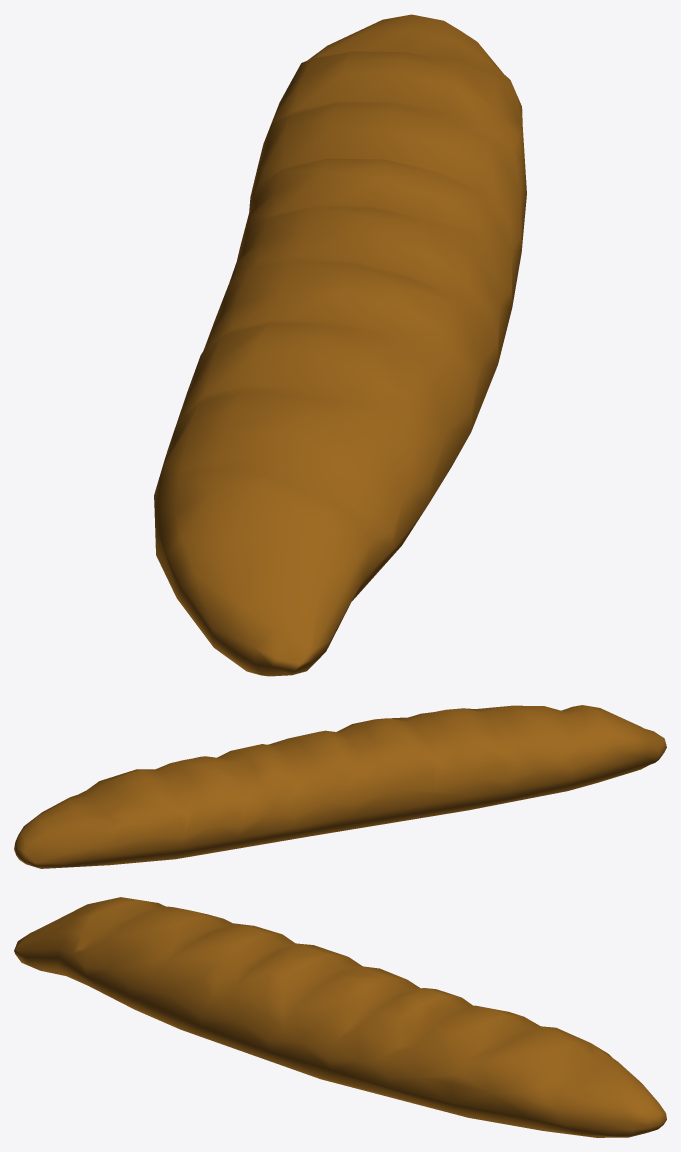
The model's file is Bread_LOD1.fbx.
The picture shows the model from 3 angles, top to bottom: view 1: azimuth 30°, elevation 25°; view 2: azimuth 150°, elevation 25°; view 3: azimuth 270°, elevation 25°; orthographic projection. The views are drawn at different scales.
Visible parts, largest first — view 1: Bread; view 2: Bread; view 3: Bread.
Boxes of the visible parts, bbox=[...] form: Bread: bbox=[154, 14, 526, 676]; Bread: bbox=[14, 705, 666, 868]; Bread: bbox=[14, 897, 666, 1137].
Bounding box in the file's own units: 64.06 × 13.72 × 84.94.
